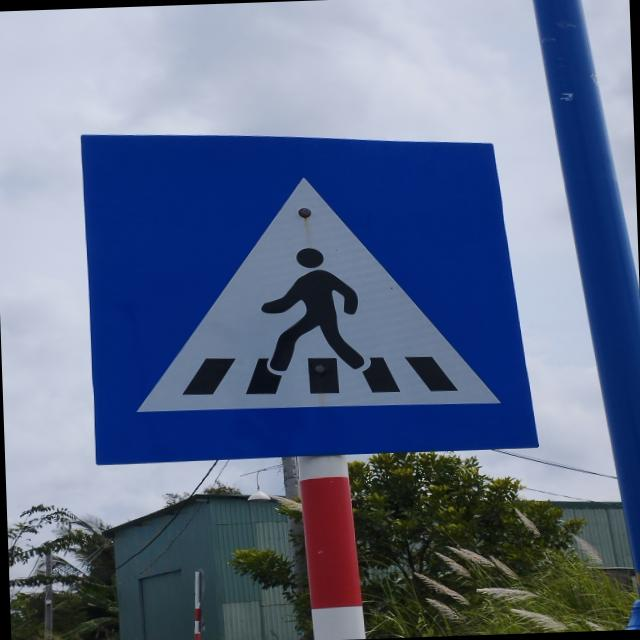Giao_Nhau_Duong_Uu_Tien: (82, 118, 540, 466)
